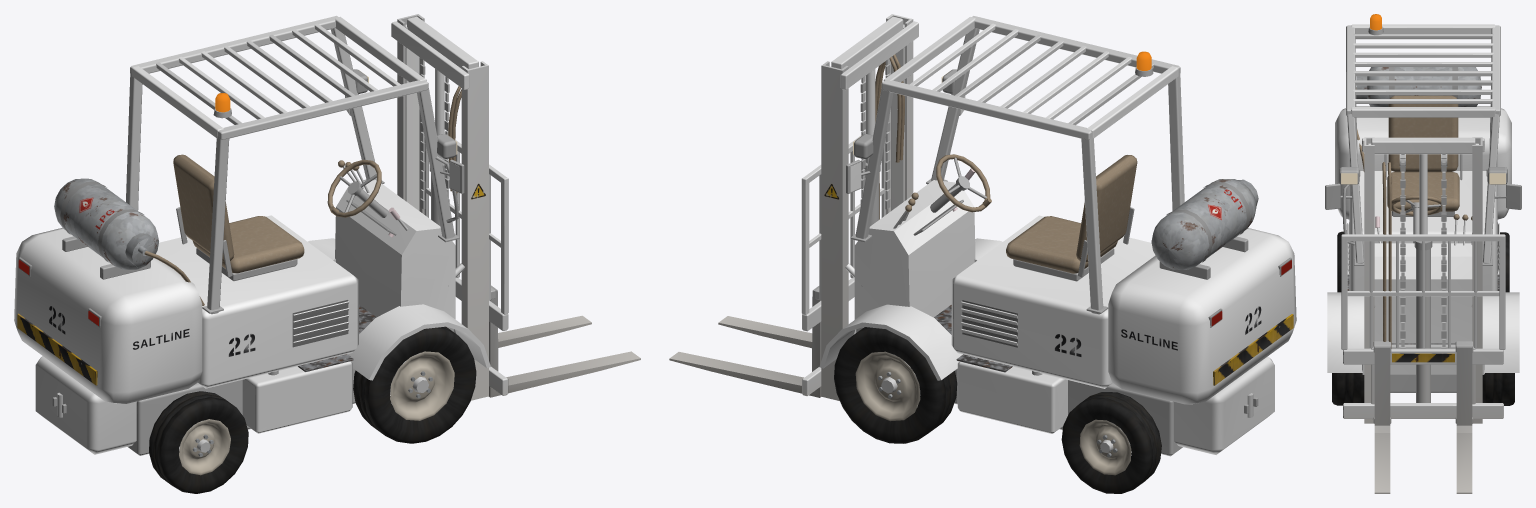
The model's file is forklift.glb.
3 views of the same model, side by side, from view 1: azimuth 30°, elevation 25°; view 2: azimuth 150°, elevation 25°; view 3: azimuth 270°, elevation 25° (orthographic). The views are drawn at different scales.
Visible parts, largest first — view 1: forklift; view 2: forklift; view 3: forklift.
Part boxes in pixels (left/top/right/bottom): forklift: left=14, top=14, right=640, bottom=493; forklift: left=669, top=14, right=1296, bottom=493; forklift: left=1325, top=14, right=1521, bottom=493.
Size of the model in its own units: 3.41 by 2.19 by 1.25.
Materials: 21 (17 with a texture image).
